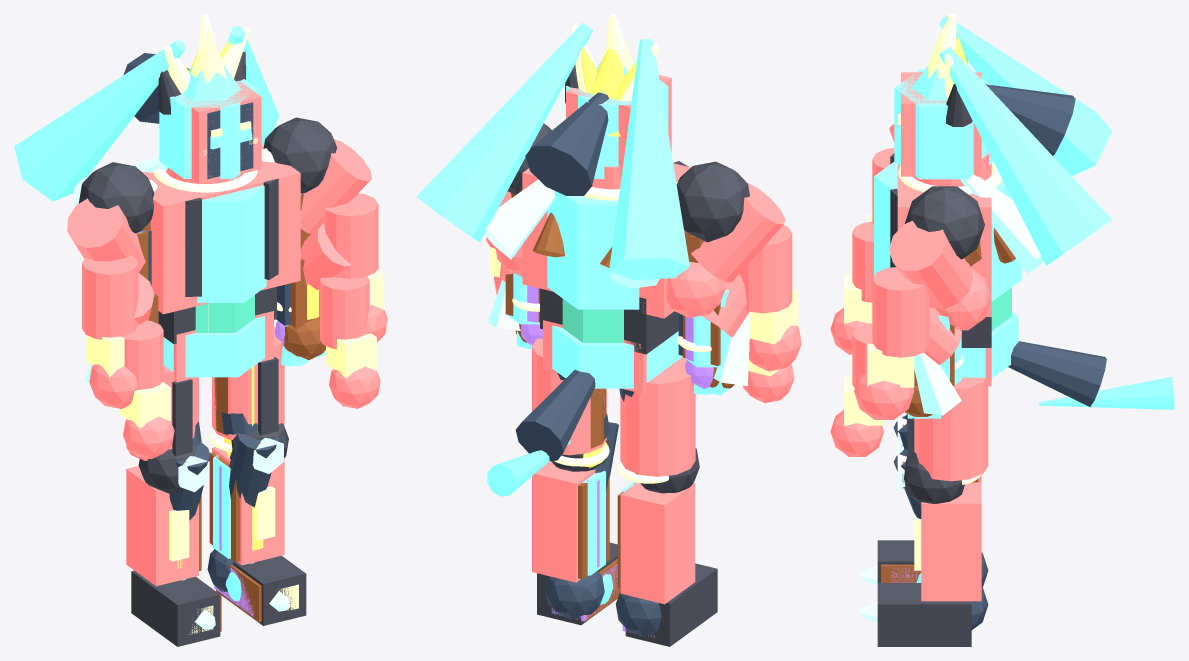
File: omnix_forms.glb
3 views of the same model, side by side, from view 1: azimuth 30°, elevation 25°; view 2: azimuth 150°, elevation 25°; view 3: azimuth 270°, elevation 25° (orthographic). The views are drawn at different scales.
Visible parts, largest first — view 1: Form_Gigas, Form_Crystallo, Form_Kinetix, Form_Inferno, Form_Cosmix; view 2: Form_Gigas, Form_Crystallo, Form_Kinetix, Form_Inferno, Form_Cosmix; view 3: Form_Gigas, Form_Crystallo, Form_Kinetix, Form_Inferno, Form_Cosmix.
Boxes of the visible parts, x1,y1,x2,y2 form: Form_Gigas: [67, 51, 387, 646]; Form_Crystallo: [14, 26, 325, 629]; Form_Kinetix: [123, 53, 308, 601]; Form_Inferno: [137, 26, 325, 631]; Form_Cosmix: [139, 14, 291, 616]; Form_Gigas: [486, 64, 801, 646]; Form_Crystallo: [416, 23, 750, 575]; Form_Kinetix: [487, 92, 712, 636]; Form_Inferno: [505, 40, 734, 621]; Form_Cosmix: [512, 14, 713, 637]; Form_Gigas: [830, 59, 991, 646]; Form_Crystallo: [860, 16, 1112, 622]; Form_Kinetix: [893, 84, 1174, 629]; Form_Inferno: [881, 24, 1015, 582]; Form_Cosmix: [891, 14, 1002, 582].
Bounding box in the file's own units: 1.04 × 1.97 × 1.02.
